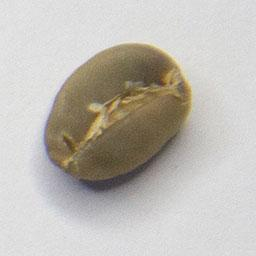premium: (41, 38, 198, 186)
